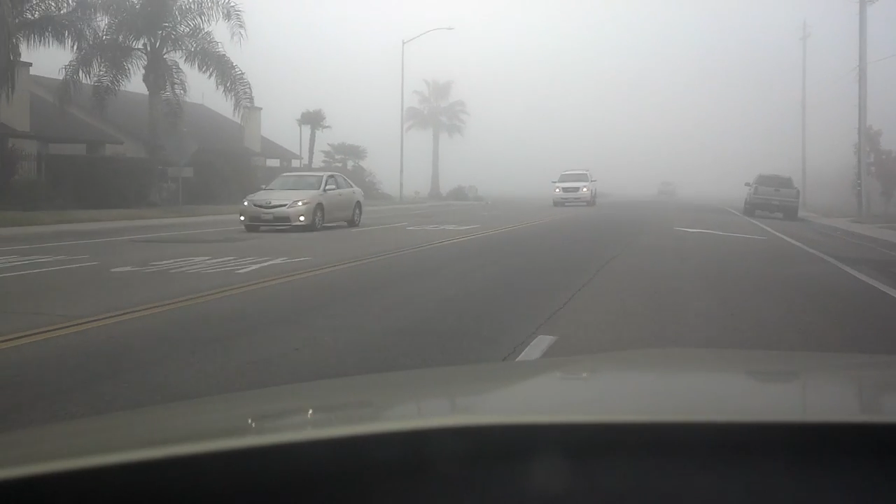car: (239, 170, 364, 233), (742, 172, 801, 217), (550, 168, 598, 206), (655, 179, 678, 197)
